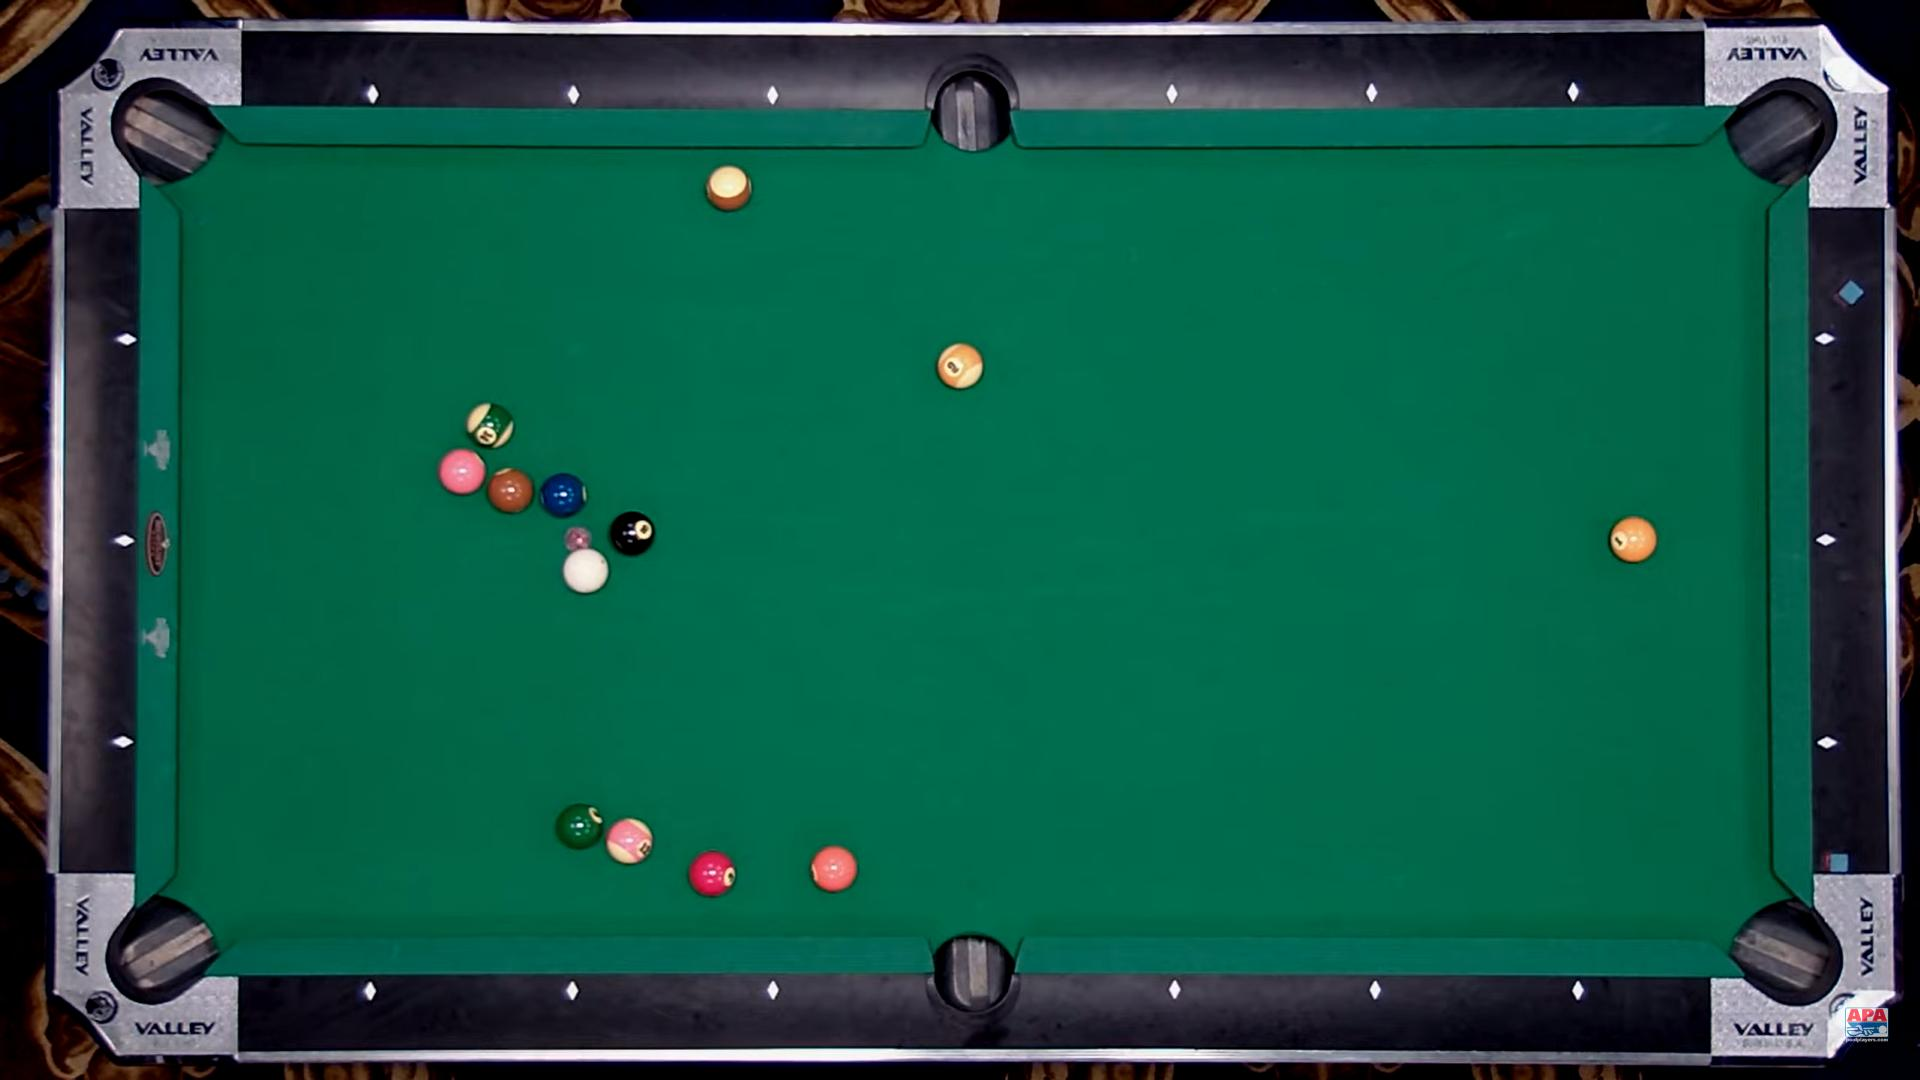Black: (611, 512, 655, 555)
Cue: (562, 549, 609, 593)
Dot: (116, 735, 131, 749), (117, 535, 132, 550), (566, 88, 580, 103), (120, 332, 135, 345), (365, 88, 380, 102), (766, 88, 779, 103), (1365, 87, 1379, 100), (1818, 535, 1833, 549), (1820, 735, 1833, 749), (1572, 985, 1586, 998), (1366, 984, 1381, 997), (765, 985, 779, 998), (564, 985, 579, 998), (1166, 87, 1179, 100), (1565, 86, 1578, 99), (1818, 334, 1832, 347), (1167, 984, 1180, 997), (363, 985, 376, 998)
Solid: (555, 803, 605, 849), (439, 448, 487, 496), (1610, 516, 1658, 562), (690, 852, 736, 898), (541, 472, 588, 517), (811, 847, 857, 891), (489, 468, 535, 513)
Striped: (465, 402, 516, 450), (607, 818, 654, 865), (938, 343, 984, 389), (707, 165, 753, 210)
